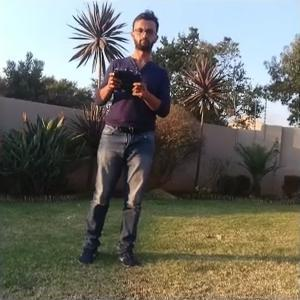follow: (73, 4, 174, 268)
